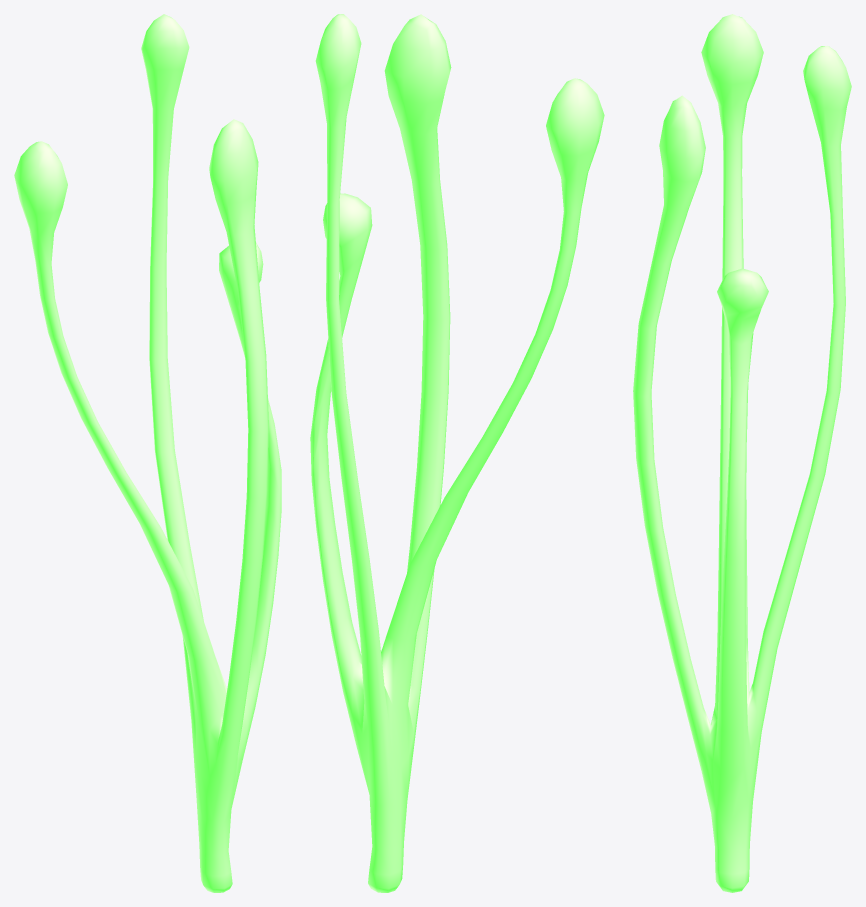
The model's file is Stamen.fbx.
3 renders of one model, left to right at view 1: azimuth 30°, elevation 25°; view 2: azimuth 150°, elevation 25°; view 3: azimuth 270°, elevation 25°, orthographic. The views are drawn at different scales.
Parts seen in each view (by area): view 1: AlienStamen; view 2: AlienStamen; view 3: AlienStamen.
Boxes of the visible parts, bbox=[...] form: AlienStamen: bbox=[14, 14, 281, 892]; AlienStamen: bbox=[310, 14, 604, 892]; AlienStamen: bbox=[633, 14, 851, 892].
Bounding box in the file's own units: 175 × 537 × 126.
